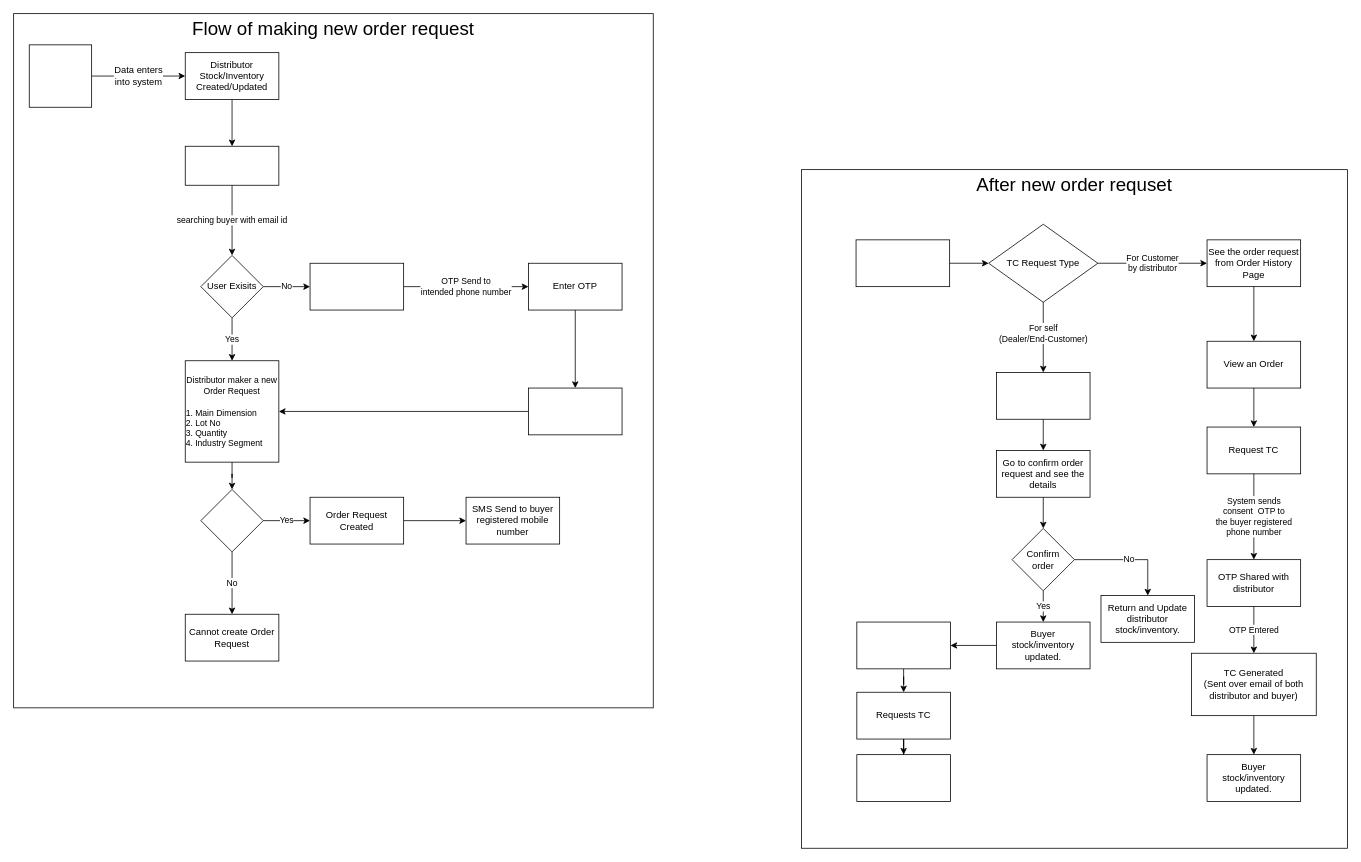
Some shapes in this 1361 by 862 pixel diagram are drawn without their labels. The box of each missing label's shape, as (x1, y1, x2, y2) in pixels:
Go request TC Page and see details: (856, 621, 950, 669)
New order request received: (855, 239, 950, 287)
On Board user by filling up a form: (309, 262, 404, 310)
SAP: (28, 44, 92, 107)
Sign in as Dealer/End-Customer: (996, 372, 1090, 419)
Start creating new order request for buyer: (184, 145, 279, 185)
Stock Available: (200, 489, 263, 552)
TC sent to buyer email only: (856, 754, 950, 801)
User Created: (528, 387, 622, 435)
